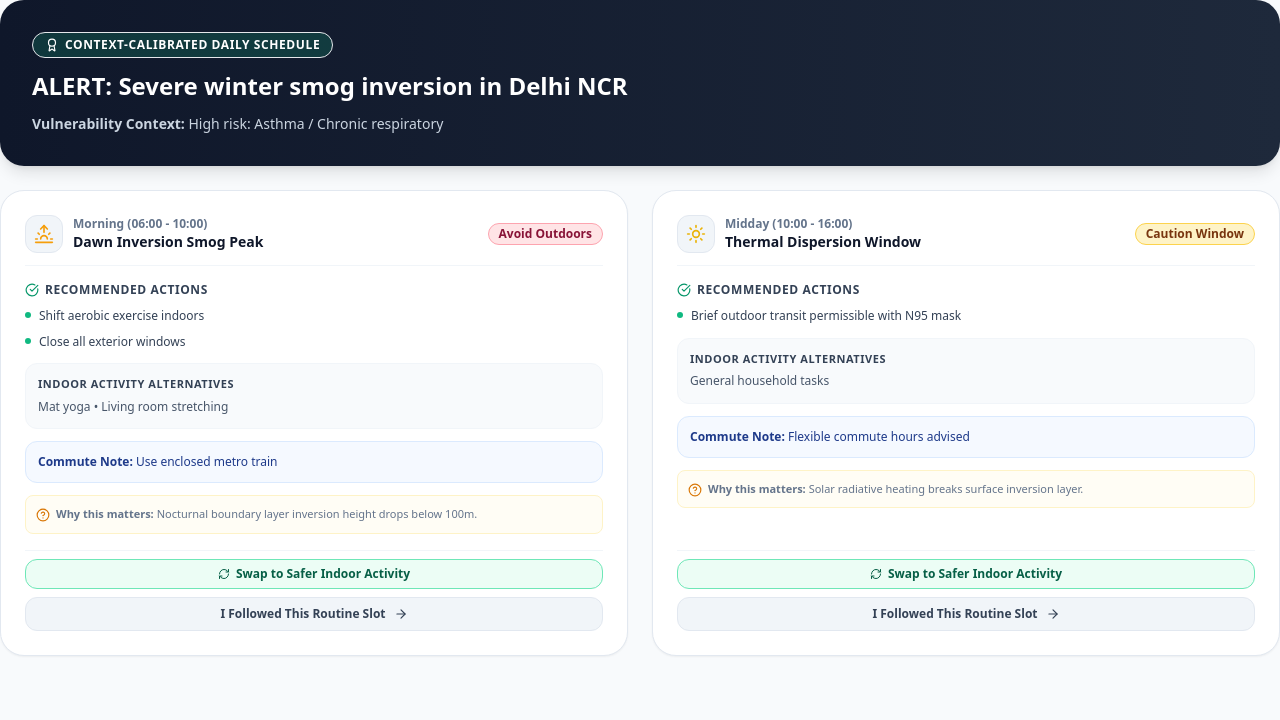
Test: DailyRoutineView Component Tests › toggles interactive activity swap and logs swapped action
Later steps or results of the test are not shown.
Click the button "Swap to Safer Indoor Activity" below "Use enclosed metro train" at (314, 574), box [25, 558, 603, 588]
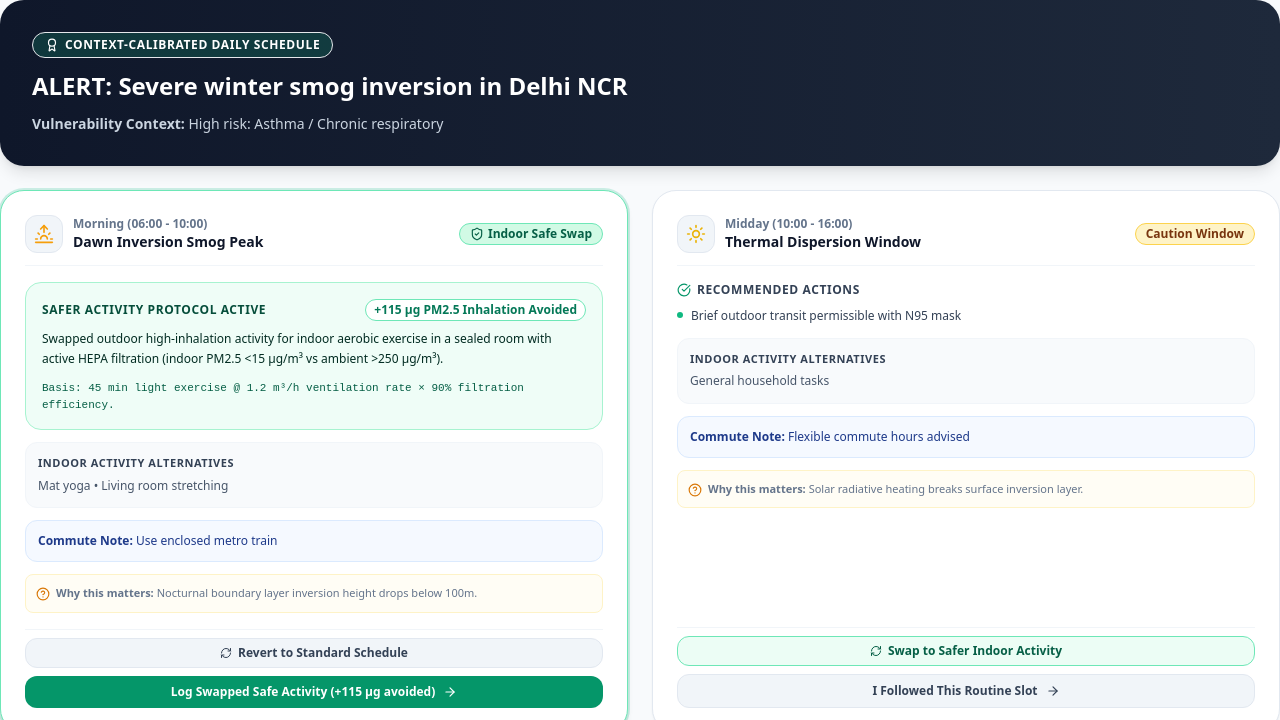
Check: the text "Indoor Safe Swap" is shown, box [459, 223, 603, 245]
Check: the text "+115 µg PM2.5 Inhalation Avoided" is shown, box [365, 299, 586, 321]
